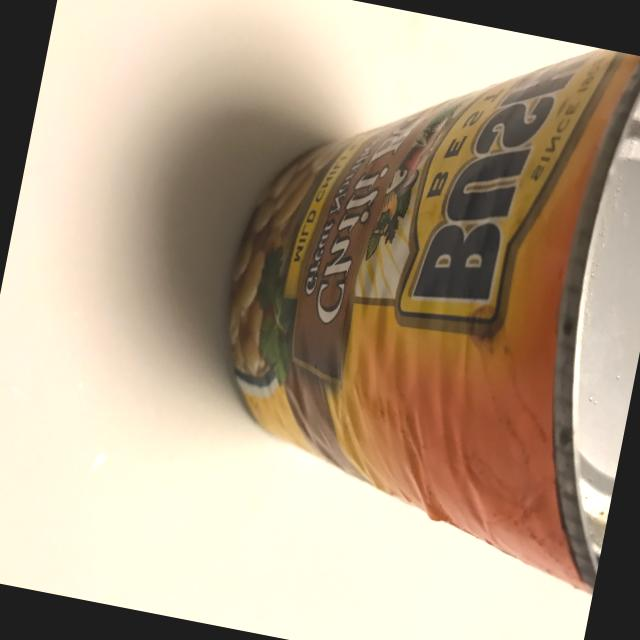Metal: (120, 0, 640, 607)
